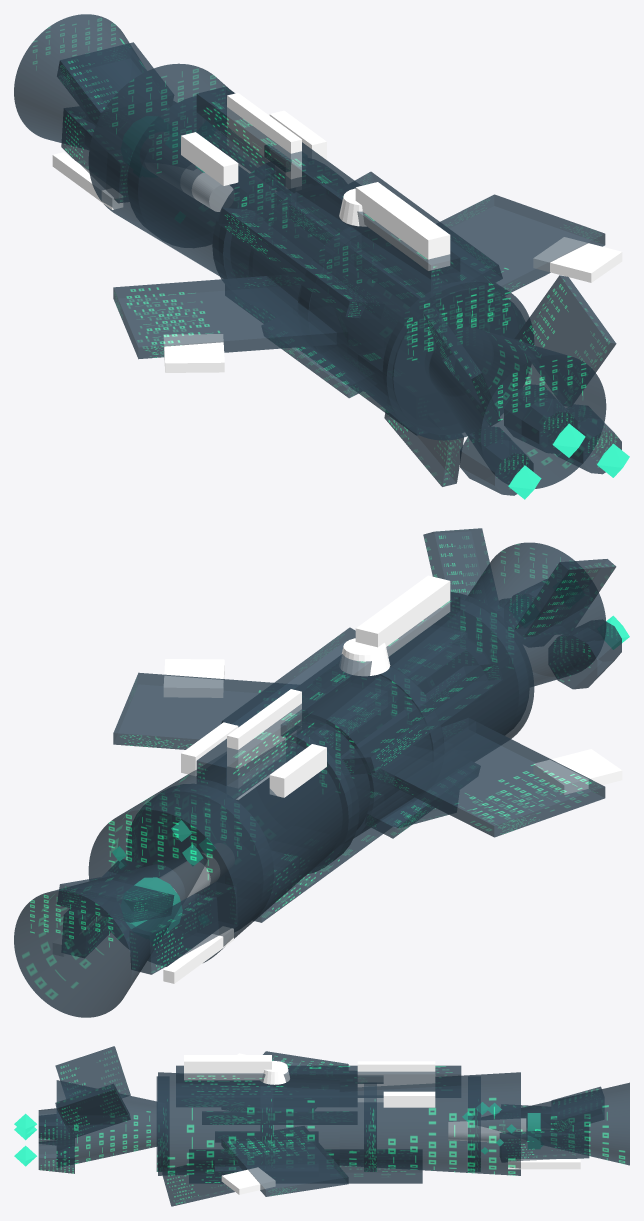
The model's file is sousmarin.glb.
3 views of the same model, one above another, from view 1: azimuth 30°, elevation 25°; view 2: azimuth 150°, elevation 25°; view 3: azimuth 270°, elevation 25° (orthographic). The views are drawn at different scales.
Visible parts, largest first — view 1: guerrier; view 2: guerrier; view 3: guerrier.
Boxes of the visible parts, <box> form: guerrier: <box>14,14,629,499</box>; guerrier: <box>14,528,629,1017</box>; guerrier: <box>14,1046,629,1206</box>.
Size of the model in its own units: 1.27 by 0.6225 by 2.38.
